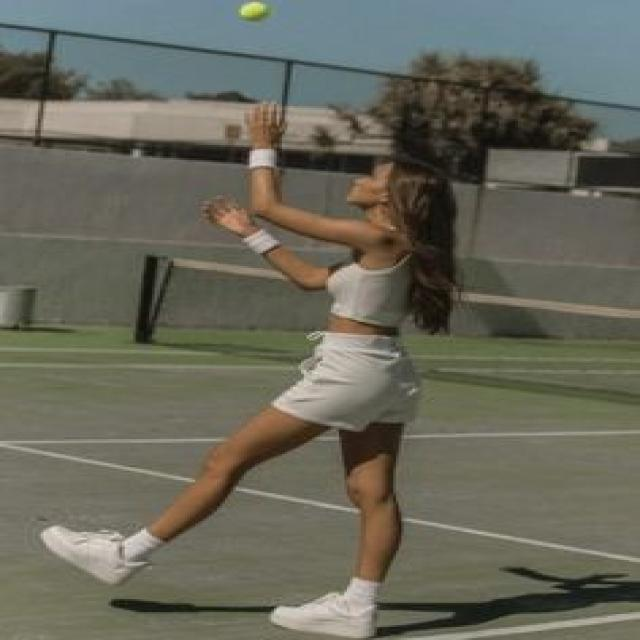tennis: (240, 3, 281, 23)
